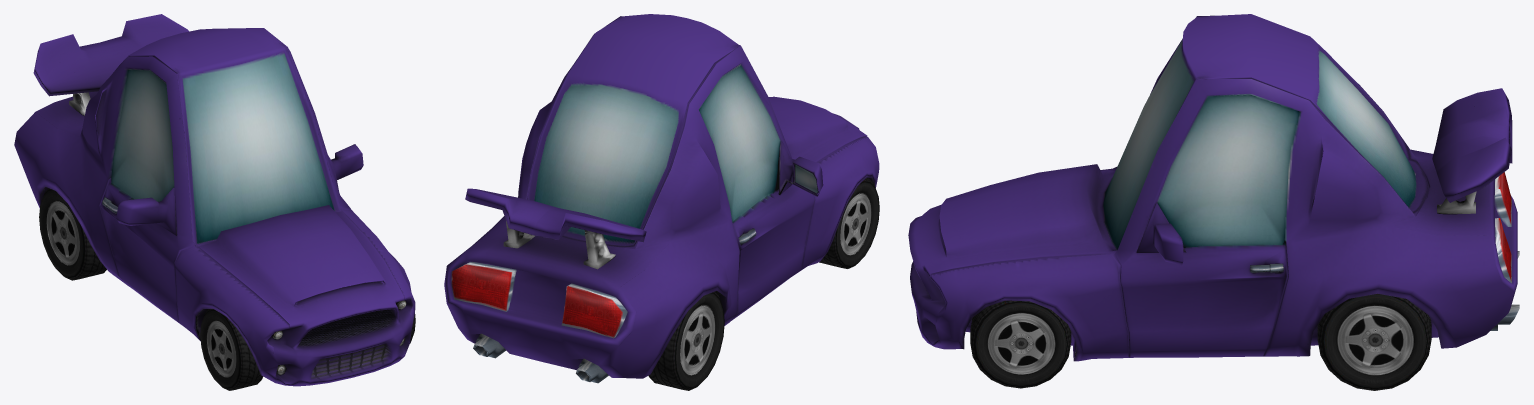
Rendered from Car2.fbx.
The picture shows the model from 3 angles, left to right: view 1: azimuth 30°, elevation 25°; view 2: azimuth 150°, elevation 25°; view 3: azimuth 270°, elevation 25°; orthographic projection. The views are drawn at different scales.
Parts seen in each view (by area): view 1: car, wheels_back_R, wheels_front_R; view 2: car, wheels_back_R, wheels_front_R; view 3: car, wheels_back_L, wheels_front_L.
Part boxes in pixels (x1=…): car: x1=14, y1=14, x2=415, y2=386; wheels_back_R: x1=39, y1=188, x2=106, y2=280; wheels_front_R: x1=200, y1=309, x2=263, y2=390; car: x1=444, y1=14, x2=879, y2=383; wheels_back_R: x1=648, y1=291, x2=724, y2=390; wheels_front_R: x1=819, y1=178, x2=879, y2=268; car: x1=908, y1=14, x2=1519, y2=361; wheels_back_L: x1=1317, y1=294, x2=1431, y2=390; wheels_front_L: x1=970, y1=300, x2=1071, y2=388.
Bounding box in the file's own units: 14.09 × 14.33 × 26.26.
